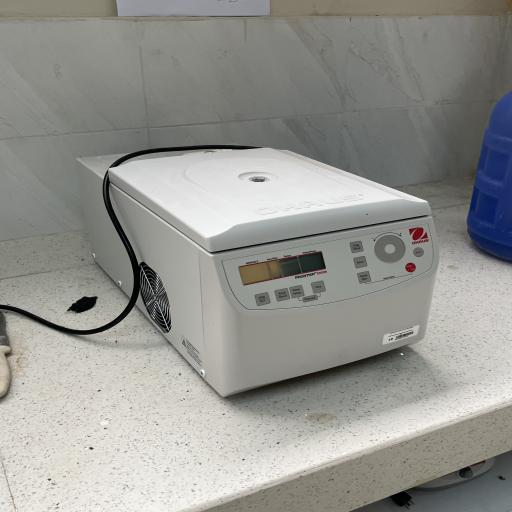Centrifuga_Ohaus_Frontier: (63, 128, 461, 406)
